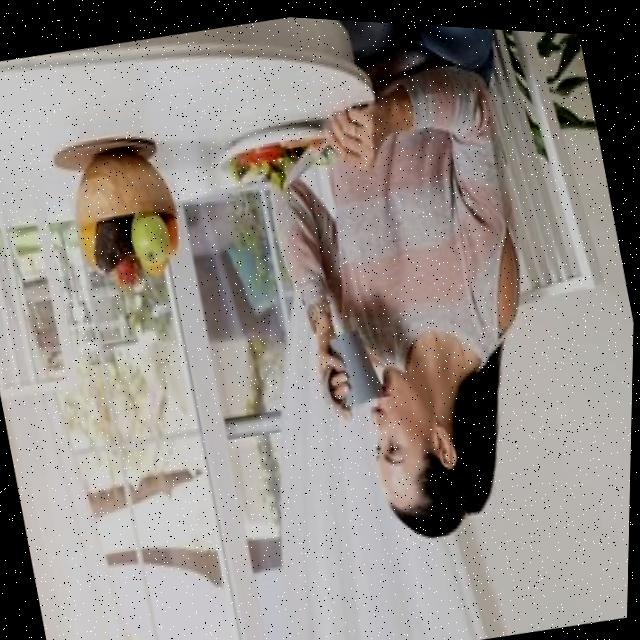eating-person: (178, 9, 607, 585)
